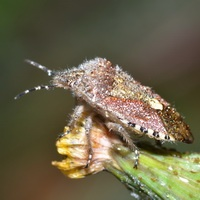insect: (14, 57, 199, 199)
